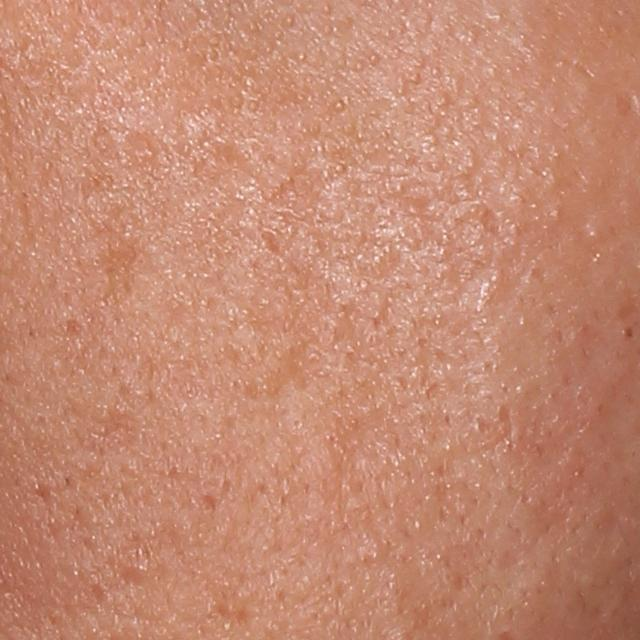atrophic_scar: (91, 241, 146, 310), (494, 401, 518, 451), (260, 229, 288, 261), (61, 317, 85, 337)
comedo: (583, 225, 605, 245)
